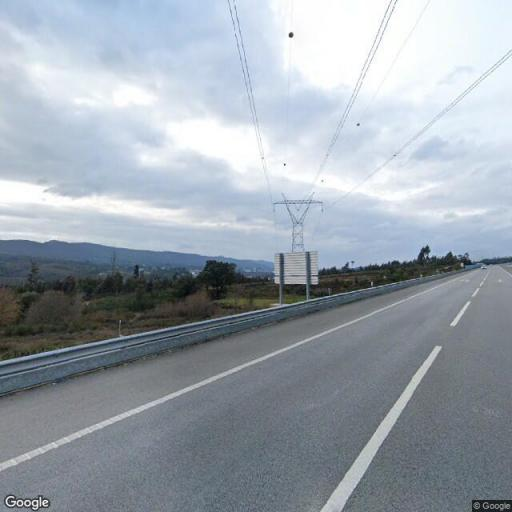wt_5: (271, 192, 325, 250)
